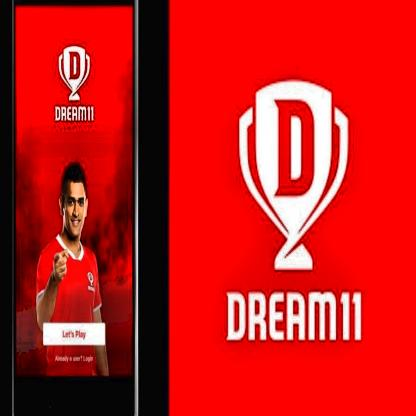Dream11: (239, 79, 351, 267), (227, 292, 363, 343), (56, 46, 93, 101), (55, 105, 94, 121)
